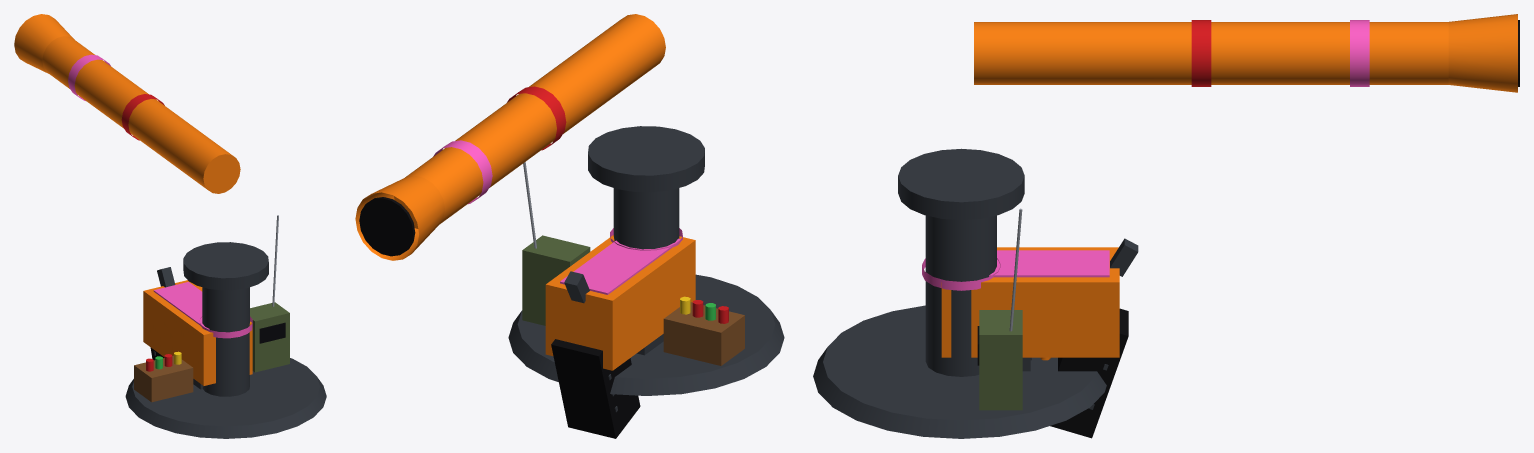
Rendered from fire_mission.obj.
3 views of the same model, side by side, from view 1: azimuth 30°, elevation 25°; view 2: azimuth 150°, elevation 25°; view 3: azimuth 270°, elevation 25° (orthographic). The views are drawn at different scales.
Parts seen in each view (by area): view 1: stand, barrel, turret; view 2: stand, barrel, turret; view 3: stand, barrel, turret.
Part boxes in pixels (x1,y1,x2,y2): stand: [125, 215, 326, 438]; barrel: [14, 14, 240, 193]; turret: [143, 267, 252, 389]; stand: [508, 126, 784, 395]; barrel: [355, 14, 665, 260]; turret: [545, 235, 695, 438]; stand: [813, 148, 1106, 438]; barrel: [974, 14, 1519, 92]; turret: [941, 238, 1138, 438].
Bounding box in the file's own units: 1.5 × 2.29 × 3.57.
